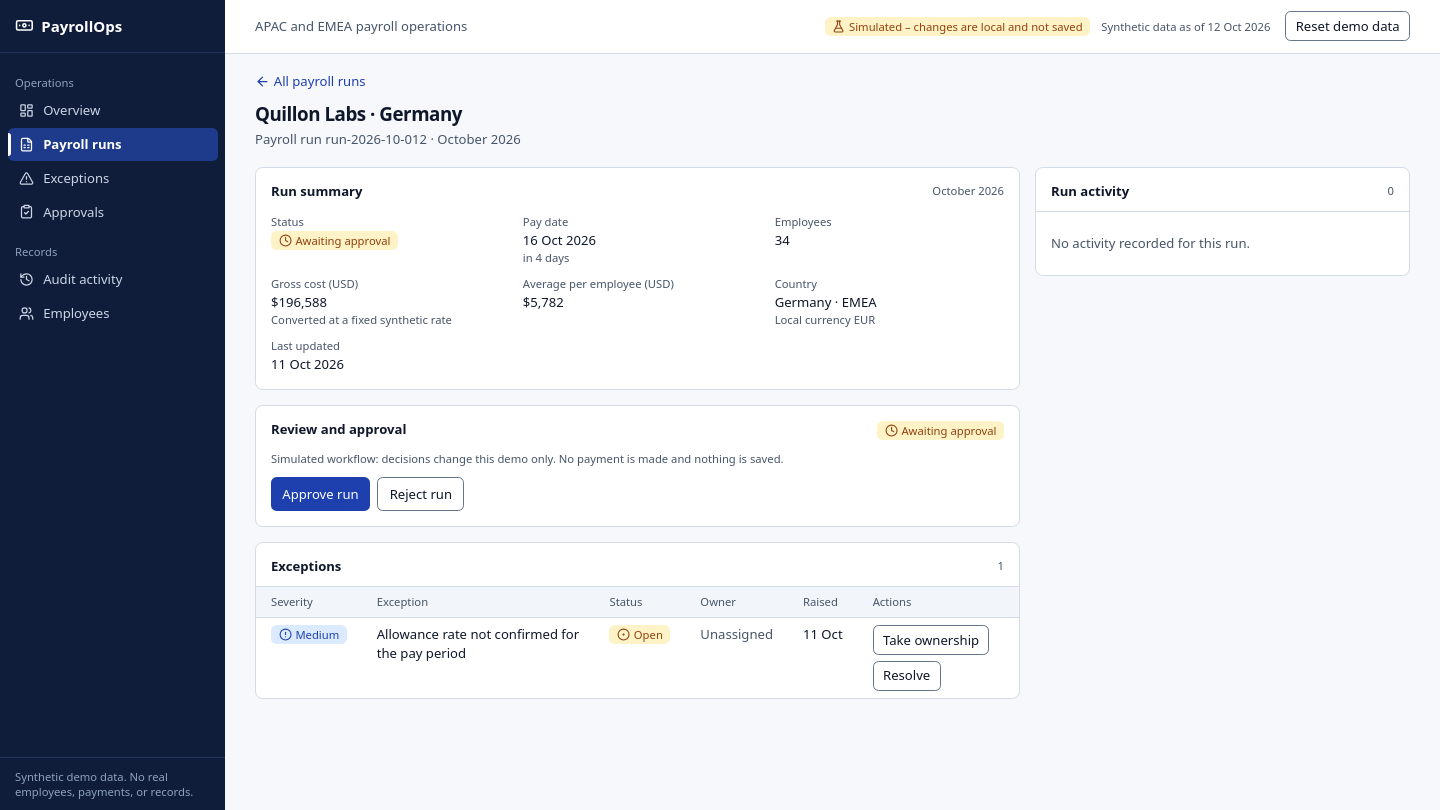
rejecting a run › shows reason text literally, never as markup
Click the button "Reject run".
click(421, 494)  # box [377,477,464,511]
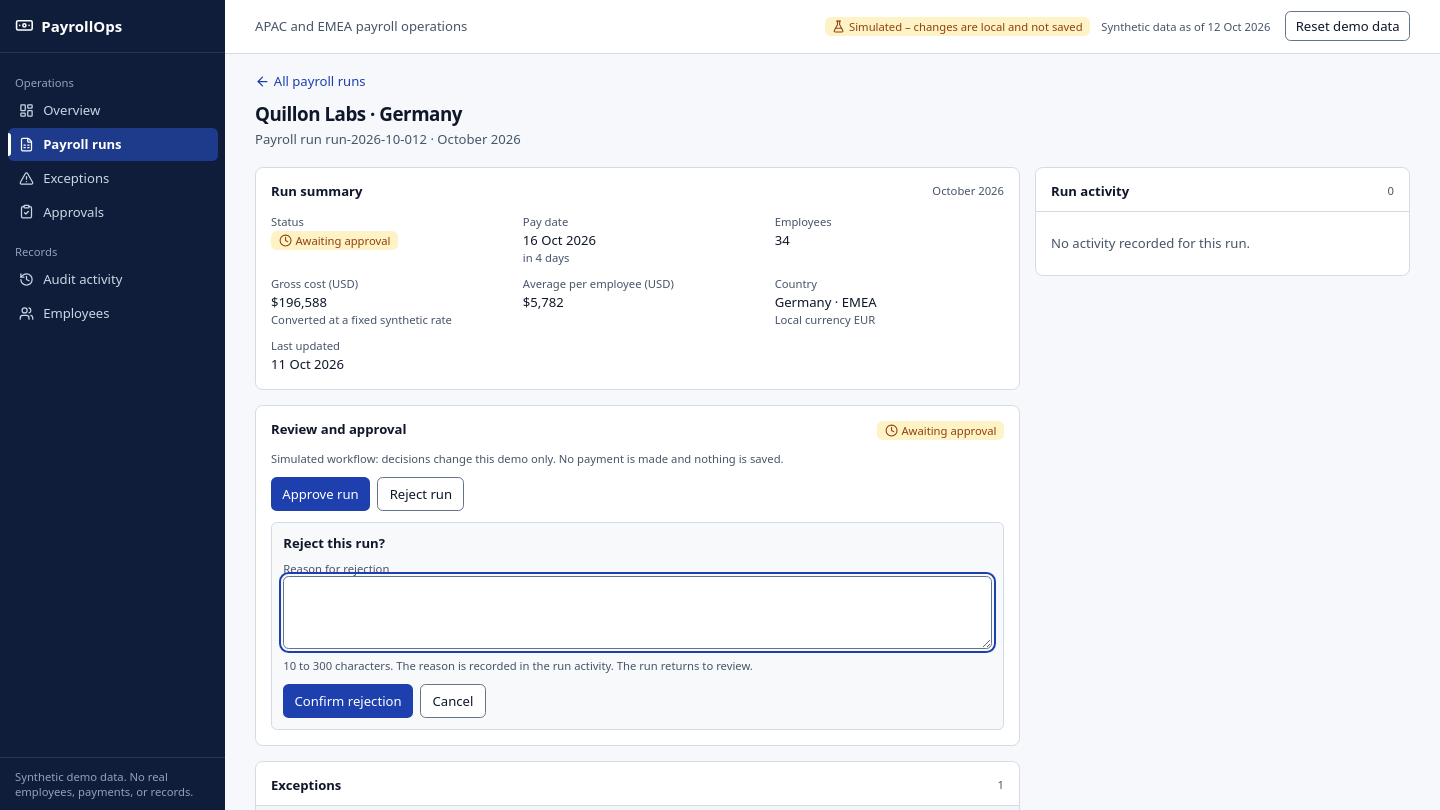
Type "<b>bold</b> and <img src=x> fix" into the text box labelled "Reason for rejection".
click(638, 612); type("<b>bold</b> and <img src=x> fix")  # box [283,576,992,649]
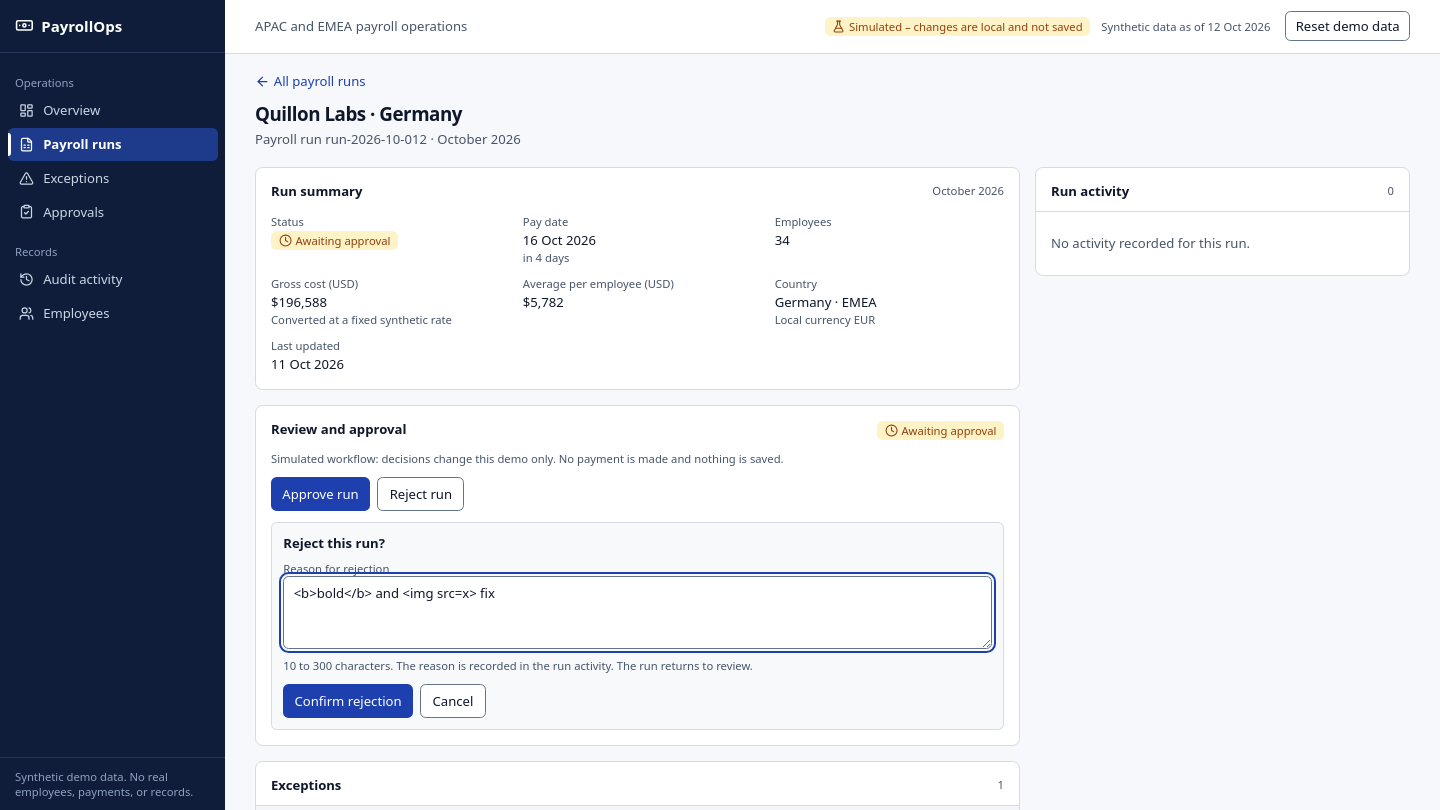
Click the button "Confirm rejection".
click(348, 701)  # box [283,684,413,718]
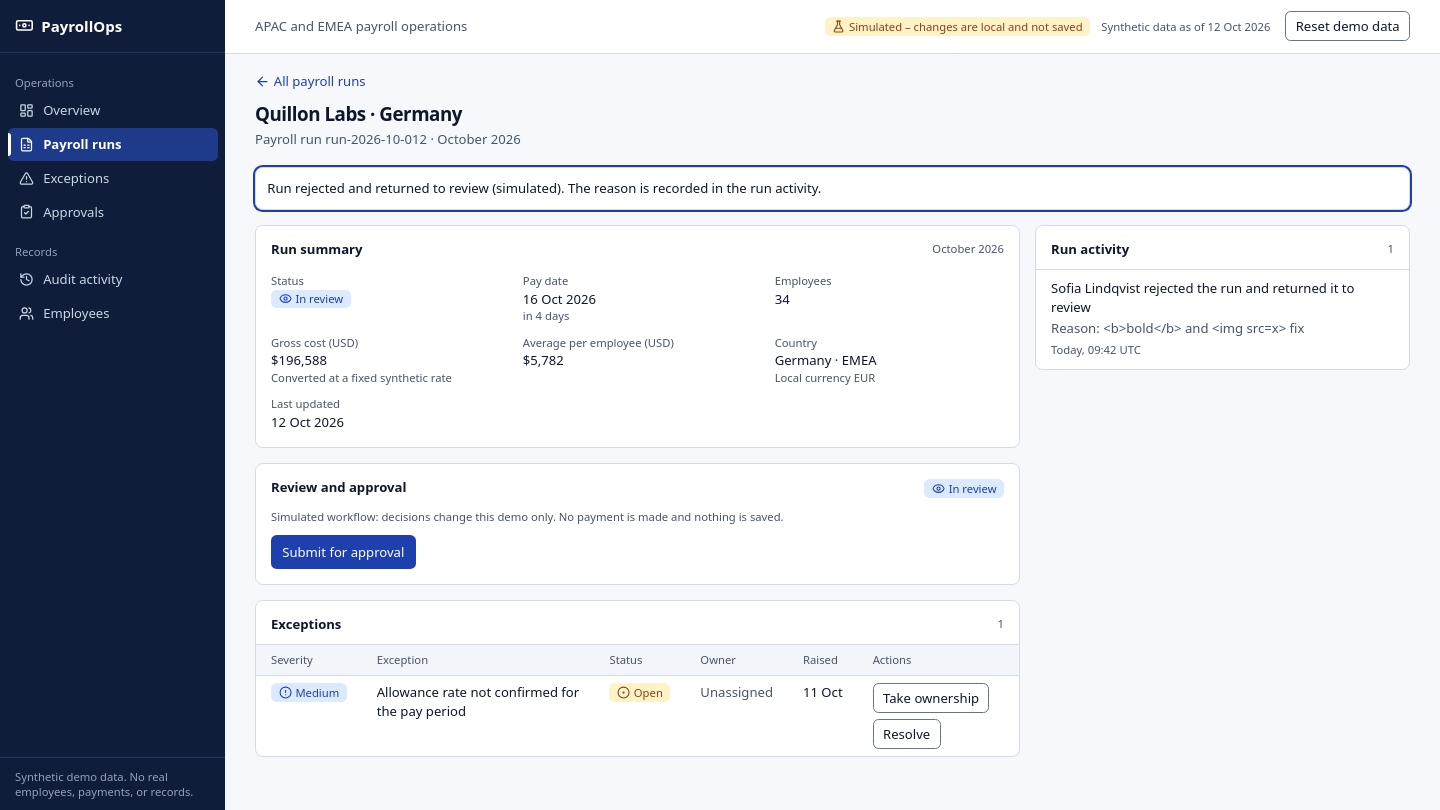
Check: the text "Reason: <b>bold</b> and <img src=x> fix" is shown, box [1051,319,1304,337]
